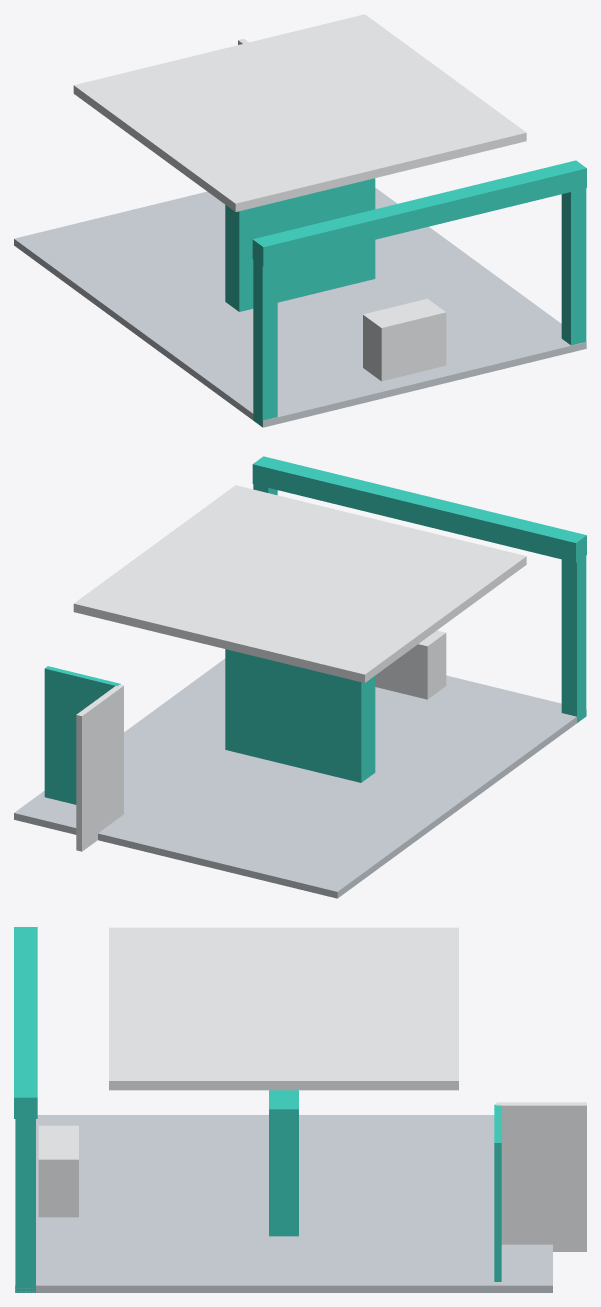
3 views of the same model, one above another, from view 1: azimuth 30°, elevation 25°; view 2: azimuth 150°, elevation 25°; view 3: azimuth 270°, elevation 25° (orthographic). The views are drawn at different scales.
Parts seen in each view (by area): view 1: Exhibition Booth Concept; view 2: Exhibition Booth Concept; view 3: Exhibition Booth Concept.
Boxes of the visible parts, x1,y1,x2,y2 form: Exhibition Booth Concept: [14, 14, 586, 427]; Exhibition Booth Concept: [14, 456, 586, 898]; Exhibition Booth Concept: [14, 927, 586, 1292].
Size of the model in its own units: 6 by 3.34 by 8.52.
